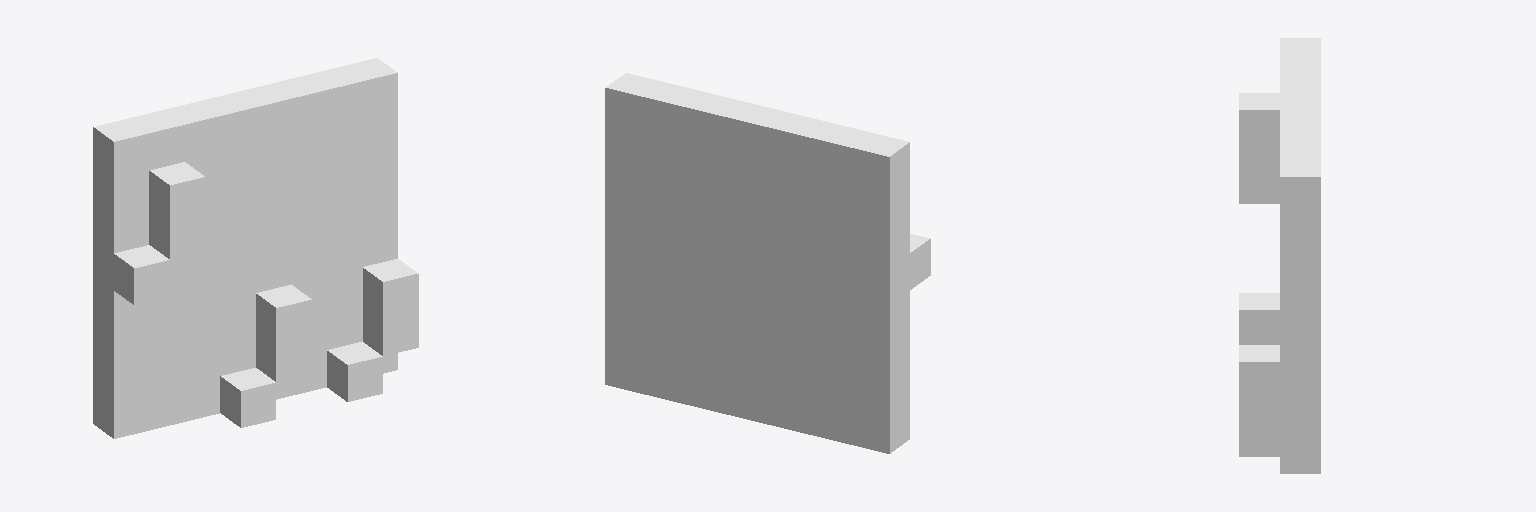
Rendered from SalamanderTailHalf.obj.
The picture shows the model from 3 angles: view 1: azimuth 30°, elevation 25°; view 2: azimuth 150°, elevation 25°; view 3: azimuth 270°, elevation 25°; orthographic projection.
Parts seen in each view (by area): view 1: object 1; view 2: object 1; view 3: object 1.
Boxes of the visible parts, box(x1,y1,x2,y2) form: object 1: box(93, 58, 418, 438); object 1: box(605, 73, 930, 453); object 1: box(1239, 38, 1320, 473).
Bounding box in the file's own units: 0.8 × 0.8 × 0.2.